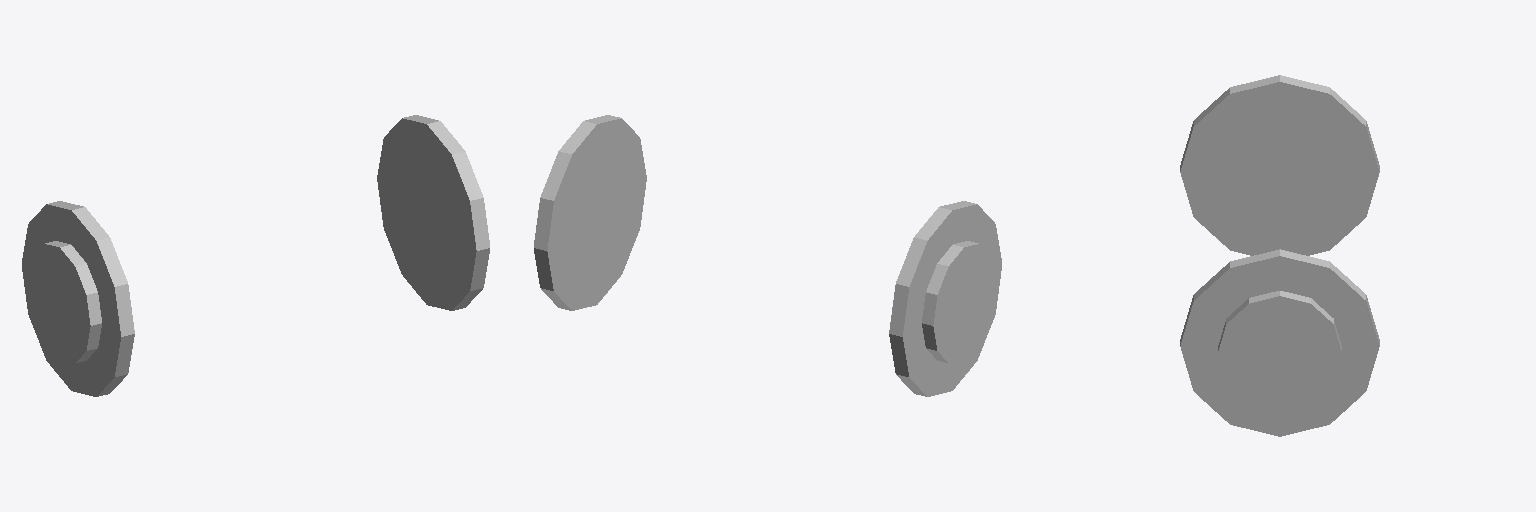
File: wheel.obj
3 views of the same model, side by side, from view 1: azimuth 30°, elevation 25°; view 2: azimuth 150°, elevation 25°; view 3: azimuth 270°, elevation 25° (orthographic).
Visible parts, largest first — view 1: Mesh.001_Circle.001_Circle, Mesh_Circle; view 2: Mesh_Circle, Mesh.001_Circle.001_Circle; view 3: Mesh_Circle, Mesh.001_Circle.001_Circle.
Boxes of the visible parts, <box> form: Mesh.001_Circle.001_Circle: <box>22,201,134,396</box>; Mesh_Circle: <box>377,115,489,310</box>; Mesh_Circle: <box>534,115,646,310</box>; Mesh.001_Circle.001_Circle: <box>889,201,1001,396</box>; Mesh_Circle: <box>1180,249,1379,436</box>; Mesh.001_Circle.001_Circle: <box>1180,75,1379,255</box>.
Bounding box in the file's own units: 1.97 × 0.872 × 0.8685.